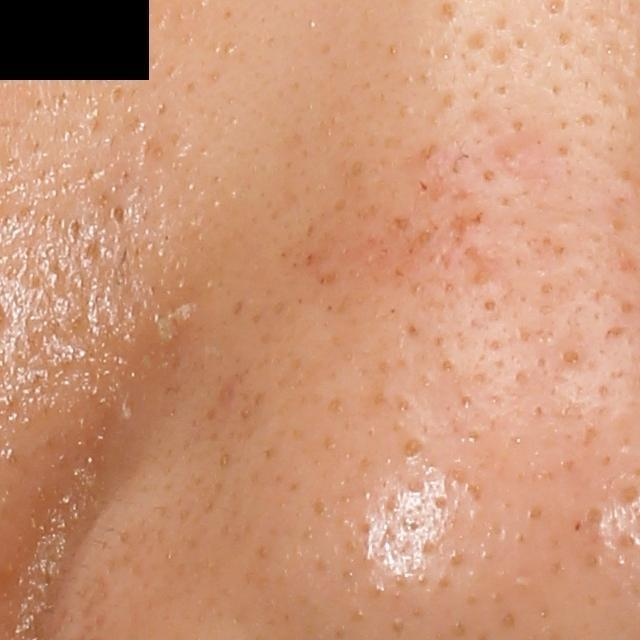atrophic_scar: (438, 210, 486, 270), (466, 243, 502, 284)
comedo: (558, 345, 585, 373), (478, 289, 502, 317), (478, 164, 499, 187)
